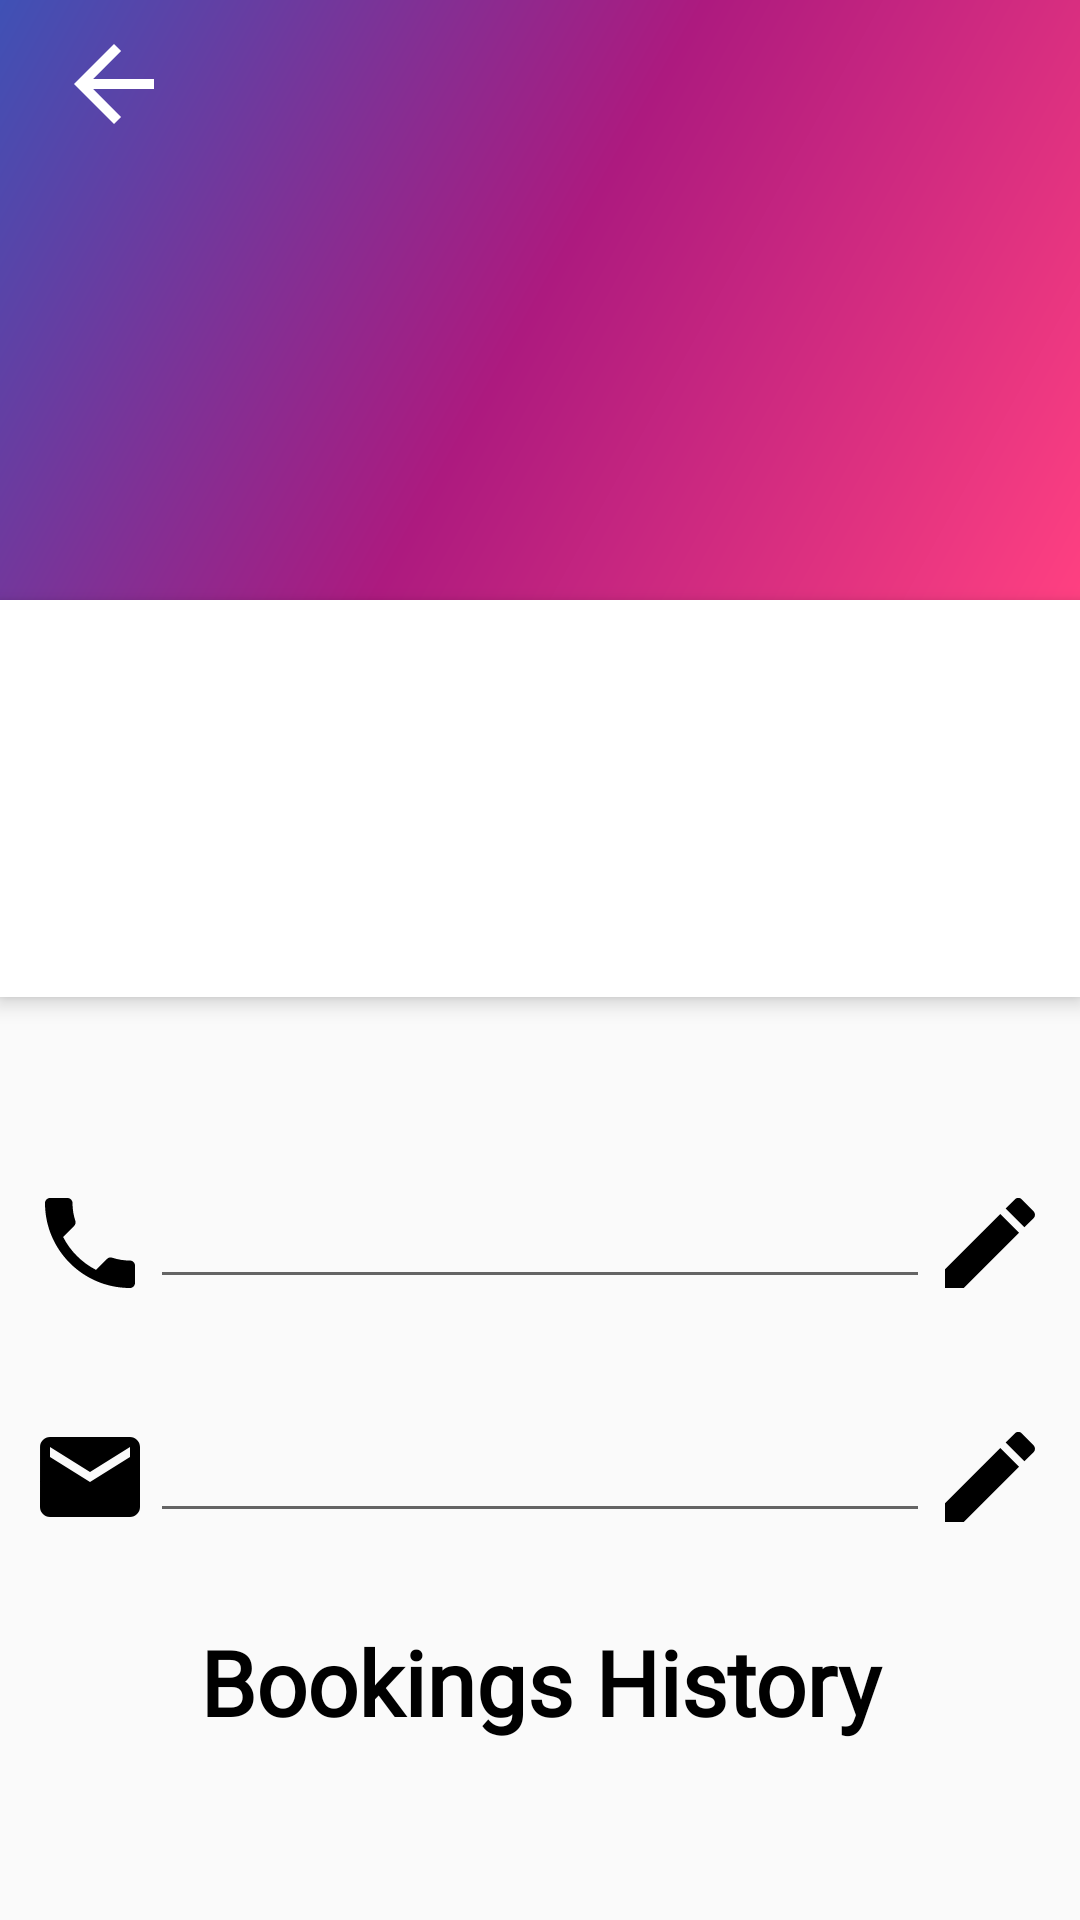

Point at icon controls on the screen. Image size 1080*1920, points as point (x, y).
arrow back: point (100, 84)
edit: point (990, 1243), point (990, 1477)
email: point (90, 1477)
phone: point (90, 1243)
